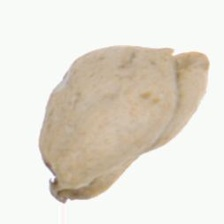L1: (40, 158, 87, 205), (162, 44, 210, 77)
L2: (38, 45, 208, 204)
